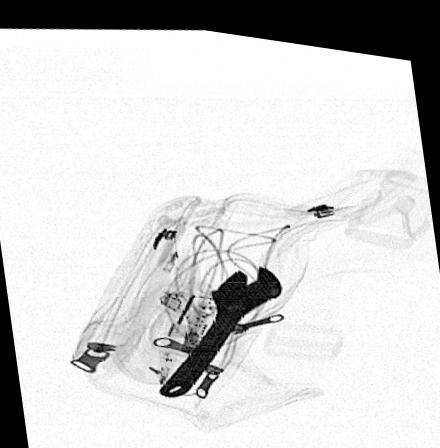Wrench: (159, 258, 281, 391)
